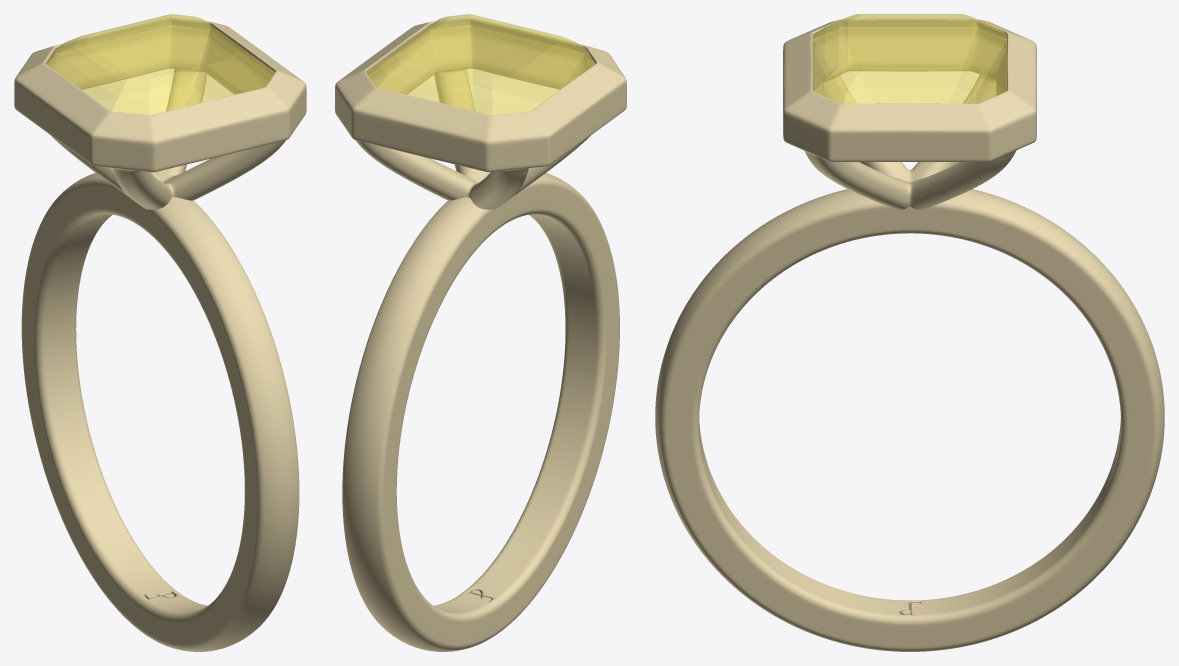
File: yellow.glb
3 views of the same model, side by side, from view 1: azimuth 30°, elevation 25°; view 2: azimuth 150°, elevation 25°; view 3: azimuth 270°, elevation 25° (orthographic). The views are drawn at different scales.
Parts seen in each view (by area): view 1: Metal 01(C0DDD501-A24A-4D8A-A44E-5092C85D724C), Metal 01(C2B77B85-2C22-4393-A197-B9C798C4049B), Diamond_Emerald Square(D063E76B-FA2F-4C0E-BA35-4FD66D0FD024); view 2: Metal 01(C0DDD501-A24A-4D8A-A44E-5092C85D724C), Metal 01(C2B77B85-2C22-4393-A197-B9C798C4049B), Diamond_Emerald Square(D063E76B-FA2F-4C0E-BA35-4FD66D0FD024); view 3: Metal 01(C0DDD501-A24A-4D8A-A44E-5092C85D724C), Metal 01(C2B77B85-2C22-4393-A197-B9C798C4049B), Diamond_Emerald Square(D063E76B-FA2F-4C0E-BA35-4FD66D0FD024).
Part boxes in pixels (box(x1,y1,x2,y2)): Metal 01(C0DDD501-A24A-4D8A-A44E-5092C85D724C): box(21, 173, 299, 651); Metal 01(C2B77B85-2C22-4393-A197-B9C798C4049B): box(14, 18, 306, 209); Diamond_Emerald Square(D063E76B-FA2F-4C0E-BA35-4FD66D0FD024): box(46, 14, 274, 115); Metal 01(C0DDD501-A24A-4D8A-A44E-5092C85D724C): box(342, 173, 619, 651); Metal 01(C2B77B85-2C22-4393-A197-B9C798C4049B): box(335, 18, 626, 209); Diamond_Emerald Square(D063E76B-FA2F-4C0E-BA35-4FD66D0FD024): box(366, 14, 595, 115); Metal 01(C0DDD501-A24A-4D8A-A44E-5092C85D724C): box(655, 189, 1164, 651); Metal 01(C2B77B85-2C22-4393-A197-B9C798C4049B): box(783, 19, 1036, 209); Diamond_Emerald Square(D063E76B-FA2F-4C0E-BA35-4FD66D0FD024): box(813, 14, 1006, 103).
Size of the model in its own units: 0.0106 by 0.0275 by 0.0209.
